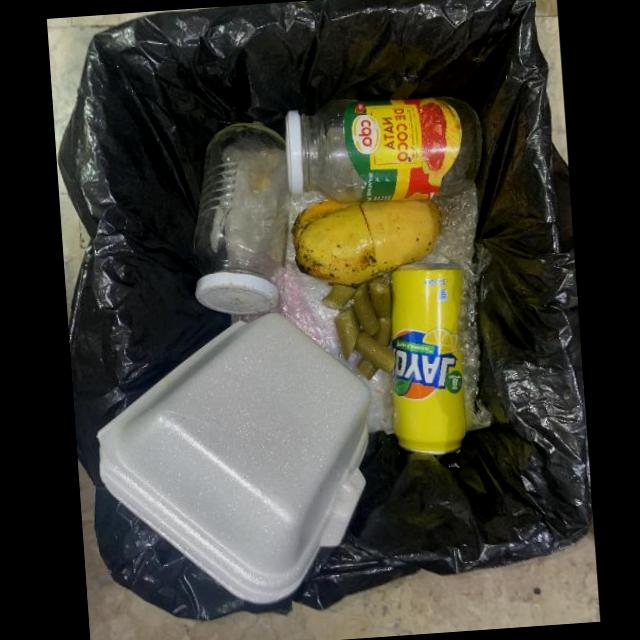chai_thuy_tinh: (285, 97, 481, 204), (193, 123, 290, 315)
nhom: (391, 263, 466, 455)
thuc_an_thua: (320, 277, 396, 380)
vo_trai_cay: (291, 199, 440, 285)
xop: (96, 313, 371, 603)
